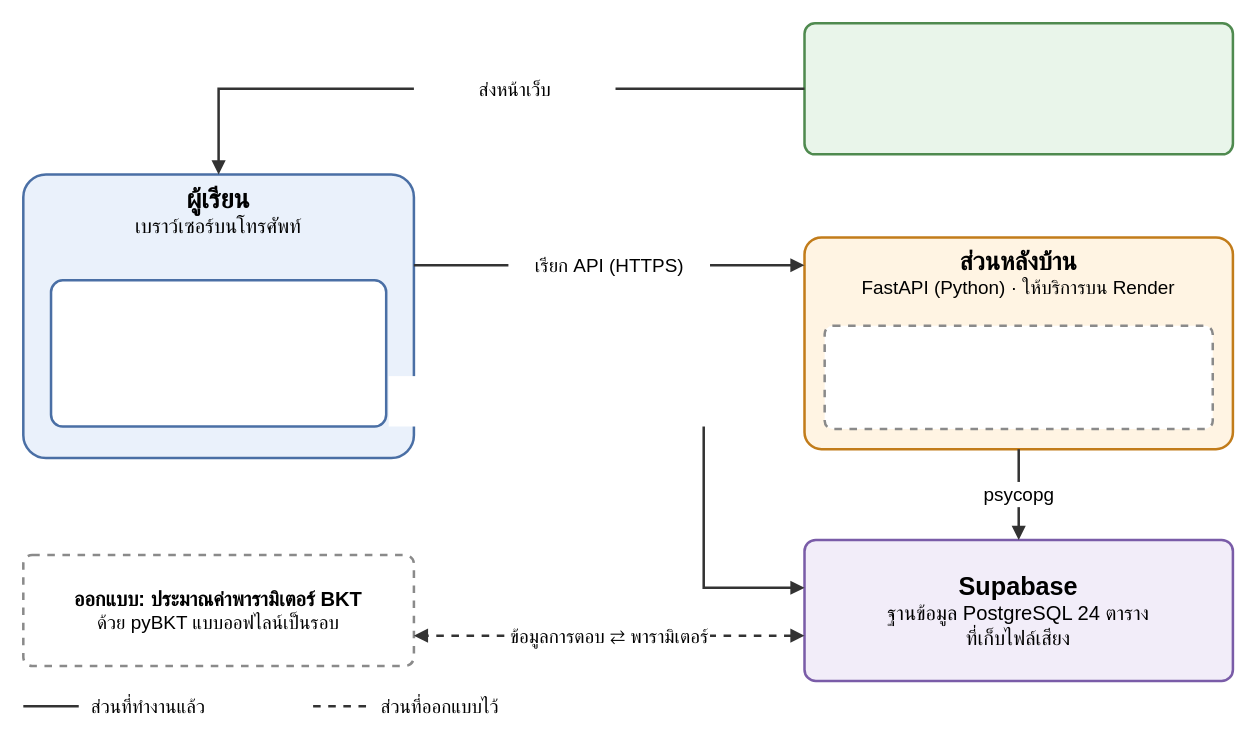
Image size: 1255x740. Some labels were removed from this diagram. The centre of each missing label's shape, as x and y in pixels:
"supabase-js ภายใต้สิทธิ์ระดับแถว อ่านคำศัพท์ หน่วยความรู้ ไฟล์เสียง" belongs at [558,400].
"ส่วนหน้าบ้าน Next.js · React · Tailwind CSS ให้บริการบน Vercel" belongs at [1018,88].
"ออกแบบ: รับคำตอบ · ตรวจด้วยกฎ ปรับค่า BKT · จัดตารางทบทวน" belongs at [1018,377].
"ในเครื่องของผู้เรียน ที่พักคำตอบก่อนส่งขึ้นฐานข้อมูล ts-fsrs จัดตารางทบทวน" belongs at [218,352].
